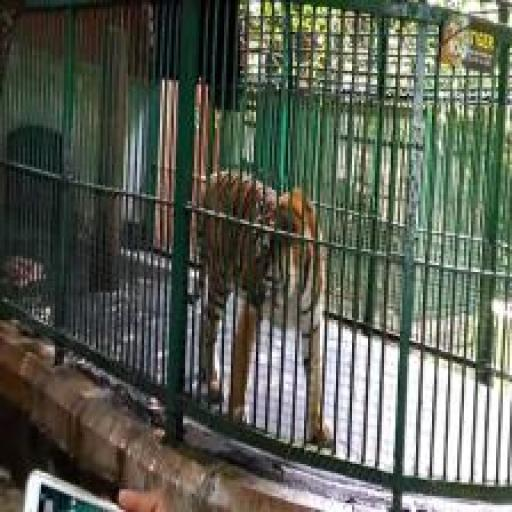Tiger: (180, 160, 340, 469)
